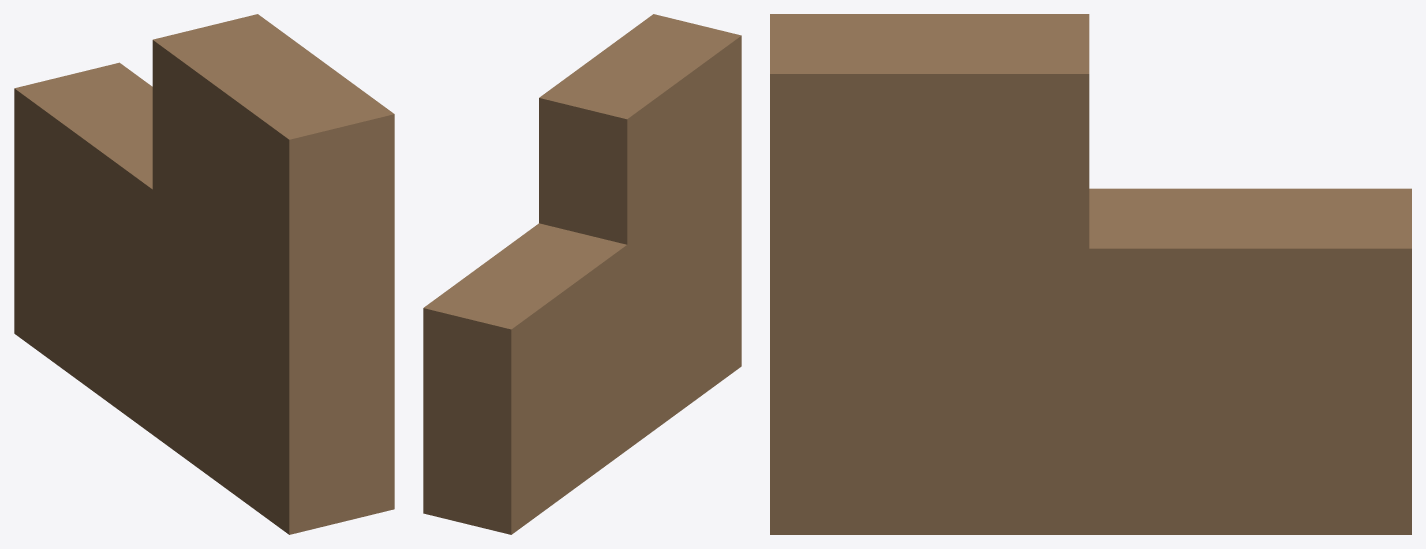
The model's file is Pared.fbx.
3 views of the same model, side by side, from view 1: azimuth 30°, elevation 25°; view 2: azimuth 150°, elevation 25°; view 3: azimuth 270°, elevation 25° (orthographic). The views are drawn at different scales.
Visible parts, largest first — view 1: Pared; view 2: Pared; view 3: Pared.
Part boxes in pixels (left/top/right/bottom): Pared: left=14, top=14, right=394, bottom=534; Pared: left=423, top=14, right=741, bottom=534; Pared: left=770, top=14, right=1411, bottom=534.
Bounding box in the file's own units: 83.11 × 298 × 376.
